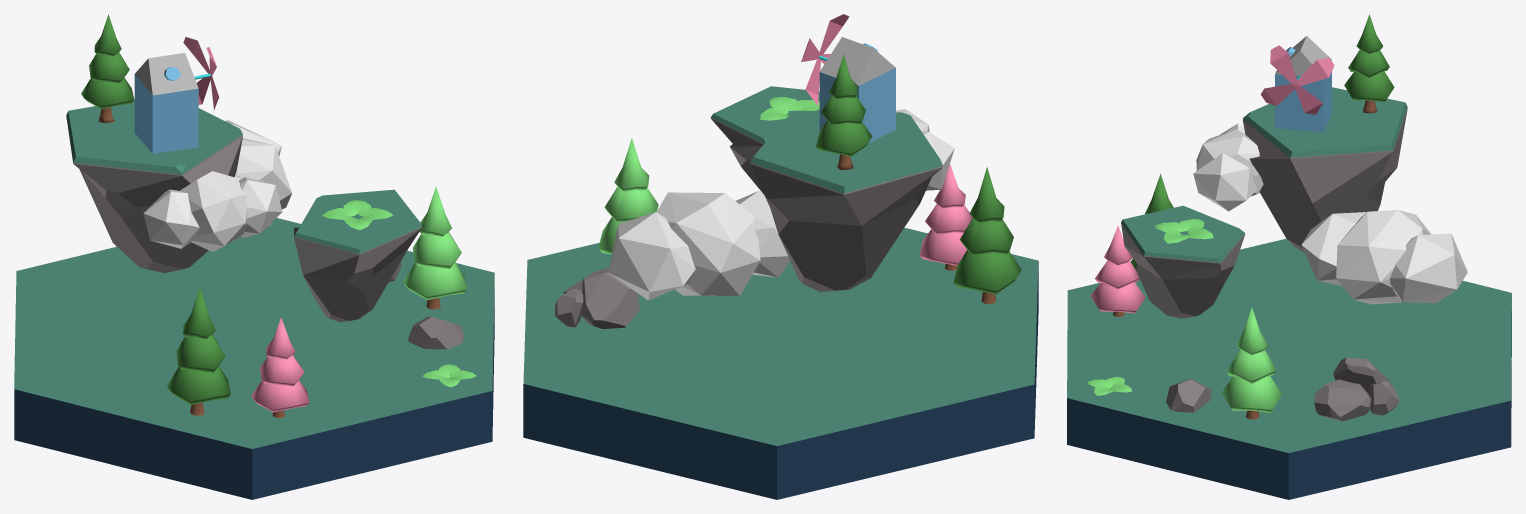
The model's file is Macro - Townhall lvl 1011 Wind Land rev.fbx.
The picture shows the model from 3 angles, left to right: view 1: azimuth 30°, elevation 25°; view 2: azimuth 150°, elevation 25°; view 3: azimuth 270°, elevation 25°; orthographic projection. The views are drawn at different scales.
Parts seen in each view (by area): view 1: Cylinder.049, Icosphere.011, Cloud_1.002, Icosphere.010, Icosphere.004, milkbox1.002, Icosphere.005, Tree_Spruce_tiny_01.004, Tree_Spruce_tiny_01.005, Tree_Spruce_tiny_01.006, Tree_Spruce_tiny_01.009, Cloud_1.004 (+4 smaller); view 2: Cylinder.049, Cloud_1.004, Icosphere.011, Icosphere.010, Tree_Spruce_tiny_01.004, milkbox1.002, Rock Type2 02 mesh.001, Tree_Spruce_tiny_01.009, Tree_Spruce_tiny_01.006, Tree_Spruce_tiny_01.005, Icosphere.005, flower4.002 (+3 smaller); view 3: Cylinder.049, Cloud_1.004, Icosphere.011, Icosphere.010, Icosphere.004, Cloud_1.002, Icosphere.005, Rock Type2 02 mesh.001, Tree_Spruce_tiny_01.005, milkbox1.002, Tree_Spruce_tiny_01.006, Tree_Spruce_tiny_01.009 (+5 smaller).
Part boxes in pixels (x1,y1,x2,y2): Cylinder.049: (14,218,494,499); Icosphere.011: (66,116,242,273); Cloud_1.002: (143,171,282,251); Icosphere.010: (66,99,242,174); Icosphere.004: (294,227,421,322); milkbox1.002: (134,53,198,153); Icosphere.005: (294,189,421,253); Tree_Spruce_tiny_01.004: (167,287,230,415); Tree_Spruce_tiny_01.005: (403,186,466,309); Tree_Spruce_tiny_01.006: (251,317,309,417); Tree_Spruce_tiny_01.009: (81,14,134,123); Cloud_1.004: (225,120,291,240); Cylinder.049: (523,227,1038,499); Cloud_1.004: (608,191,790,300); Icosphere.011: (750,163,942,291); Icosphere.010: (750,110,942,193); Tree_Spruce_tiny_01.004: (953,167,1021,304); milkbox1.002: (819,37,895,142); Rock Type2 02 mesh.001: (555,267,640,328); Tree_Spruce_tiny_01.009: (816,54,872,169); Tree_Spruce_tiny_01.006: (919,164,972,270); Tree_Spruce_tiny_01.005: (598,138,658,254); Icosphere.005: (711,86,819,143); flower4.002: (801,14,849,105); Cylinder.049: (1067,238,1511,499); Cloud_1.004: (1301,210,1467,304); Icosphere.011: (1242,108,1407,253); Icosphere.010: (1243,87,1407,157); Icosphere.004: (1121,223,1245,318); Cloud_1.002: (1193,123,1263,211); Icosphere.005: (1121,205,1244,262); Rock Type2 02 mesh.001: (1314,357,1399,421); Tree_Spruce_tiny_01.005: (1221,307,1281,419); milkbox1.002: (1275,36,1331,132); Tree_Spruce_tiny_01.006: (1090,225,1145,317); Tree_Spruce_tiny_01.009: (1344,14,1394,113).
Bounding box in the file's own units: 197 × 142 × 172.
